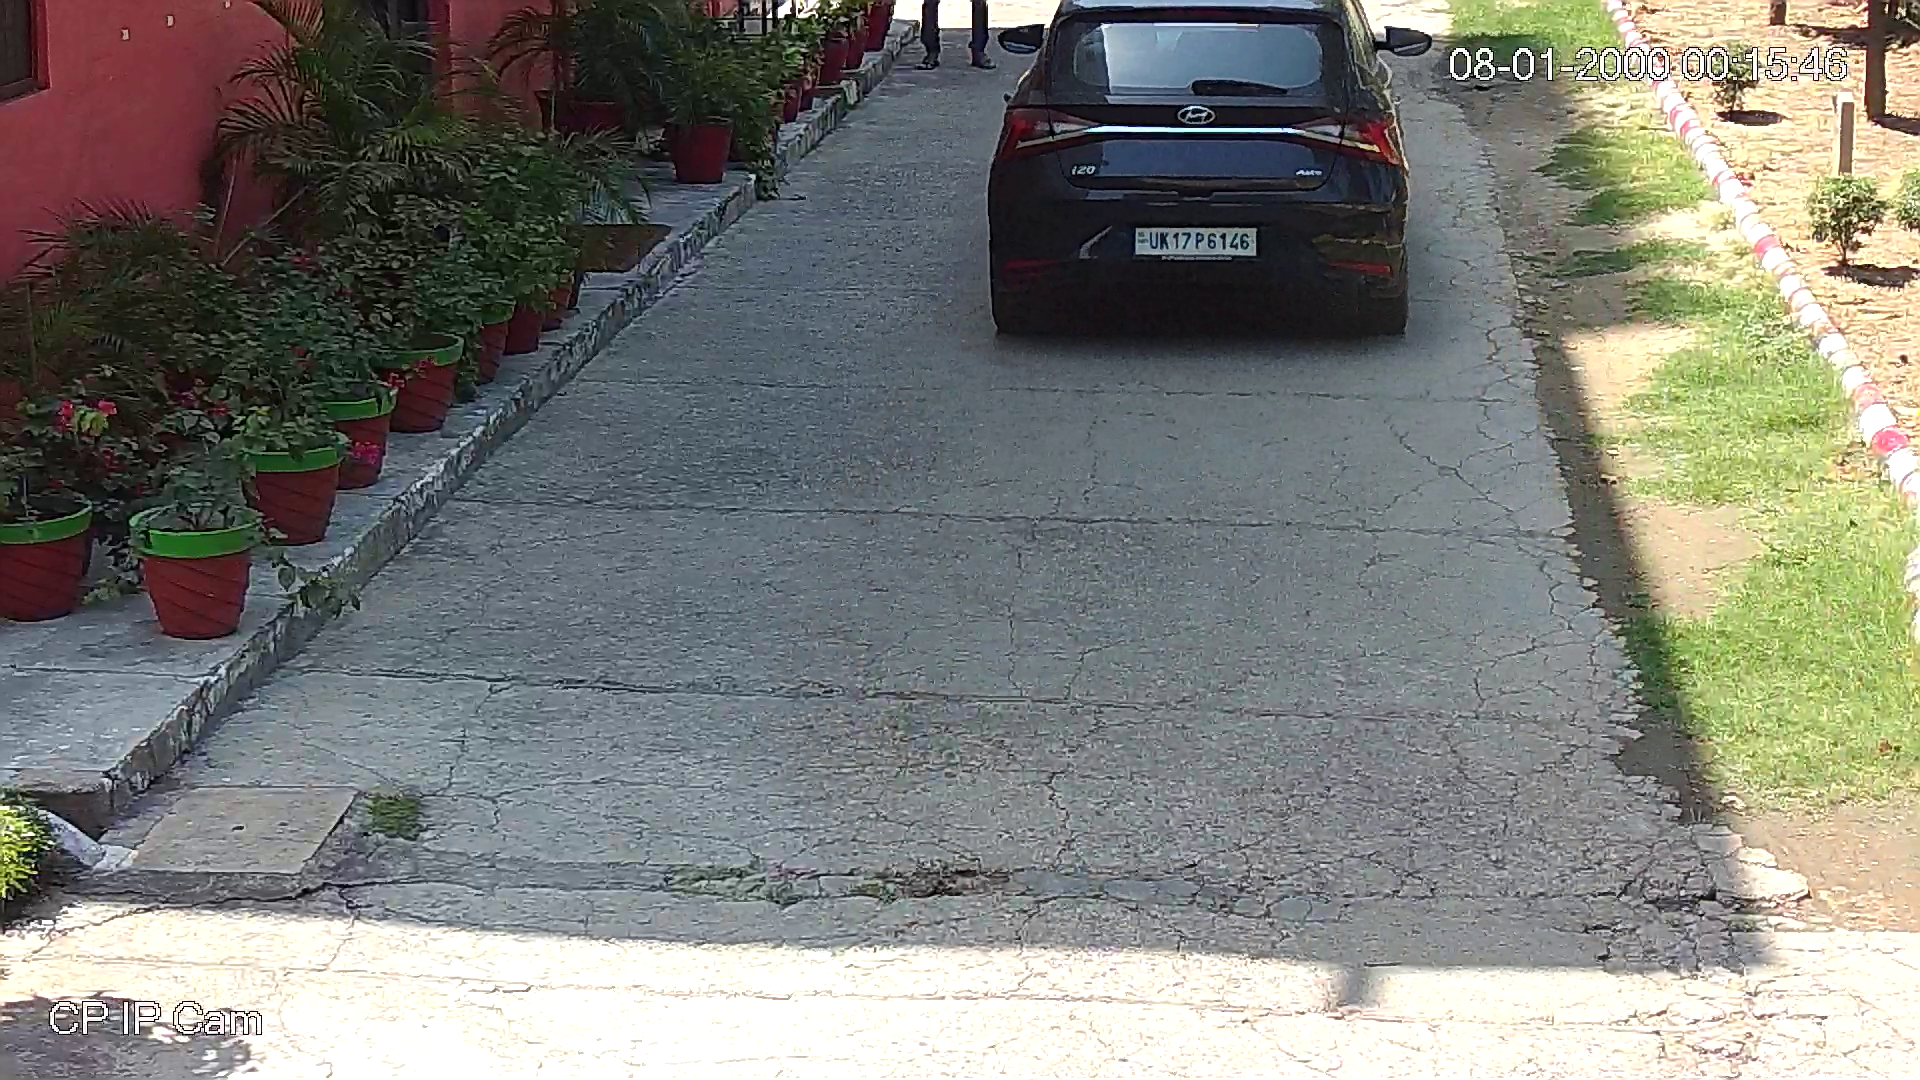plate: (1128, 221, 1261, 262)
